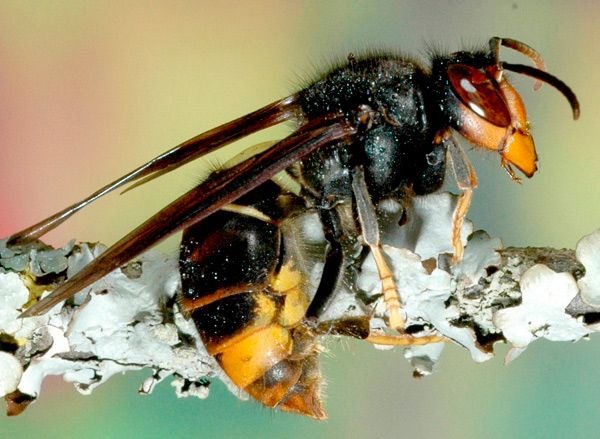hornet: (80, 25, 546, 418)
